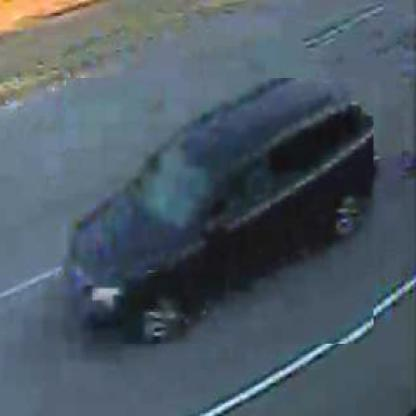car: (66, 79, 374, 346)
